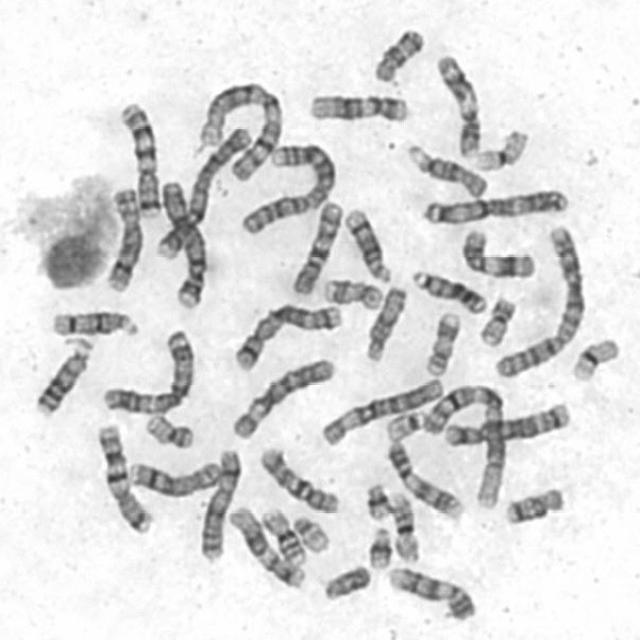A1: (419, 377, 508, 511), (193, 76, 286, 182)
A2: (489, 219, 588, 382), (234, 137, 339, 237)
A3: (96, 324, 198, 416), (418, 182, 571, 226)
B4: (151, 119, 254, 264), (154, 174, 211, 312)
B5: (228, 298, 346, 373), (439, 396, 574, 449)
C10: (254, 442, 342, 516), (286, 196, 345, 297)
C11: (432, 49, 484, 159), (456, 224, 538, 280)
C12: (224, 501, 308, 591), (304, 88, 411, 124)
C6: (316, 372, 448, 449), (226, 352, 337, 442)
C7: (92, 419, 156, 536), (114, 96, 164, 220)
C8: (100, 182, 145, 294), (123, 455, 224, 498)
C9: (382, 436, 466, 522), (382, 561, 477, 624)
D13: (30, 332, 96, 418), (407, 265, 488, 315)
D14: (339, 203, 393, 284), (46, 305, 141, 339)
D15: (401, 138, 490, 200), (361, 281, 408, 364)
E16: (255, 504, 308, 567), (385, 486, 422, 563)
E17: (420, 308, 462, 378), (319, 273, 385, 312)
E18: (368, 22, 426, 84), (499, 482, 566, 528)
F19: (469, 124, 530, 172), (567, 334, 622, 384)
F20: (474, 292, 518, 348), (140, 409, 196, 451)
G21: (364, 522, 394, 571), (361, 478, 394, 522)
G22: (288, 512, 332, 555), (381, 405, 428, 443)
X: (194, 444, 243, 564)
Y: (318, 560, 372, 603)
